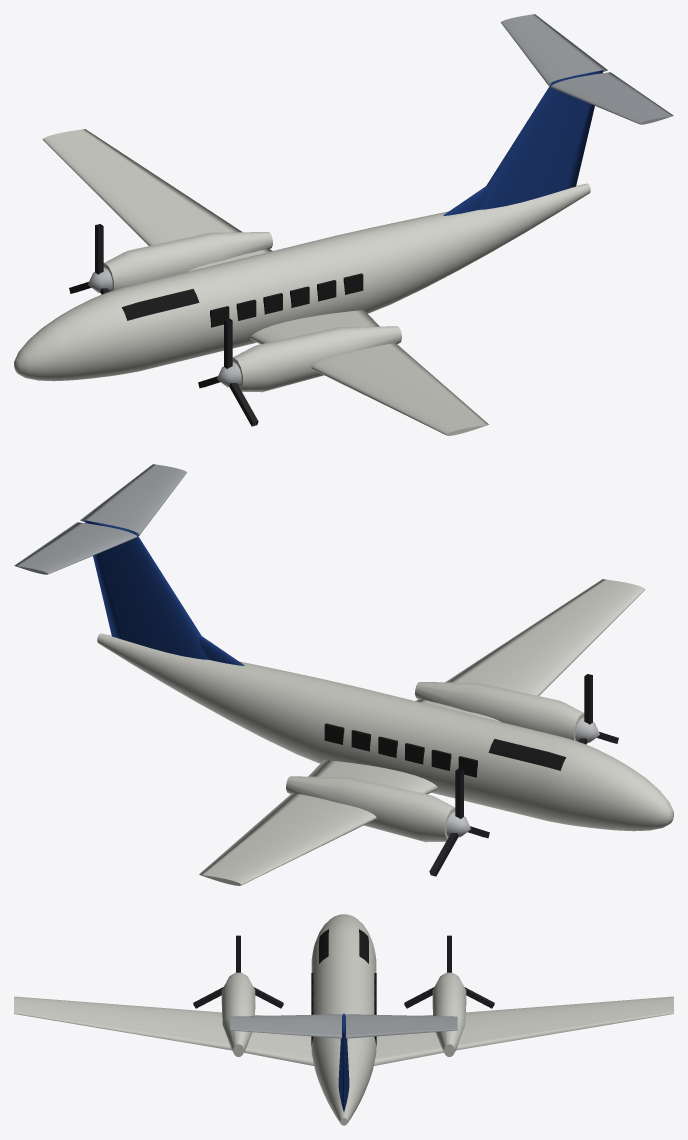
3 renders of one model, top to bottom at view 1: azimuth 30°, elevation 25°; view 2: azimuth 150°, elevation 25°; view 3: azimuth 270°, elevation 25°, orthographic. The views are drawn at different scales.
Parts seen in each view (by area): view 1: be20; view 2: be20; view 3: be20.
Part boxes in pixels (left/top/right/bottom): be20: left=14, top=14, right=673, bottom=435; be20: left=14, top=464, right=673, bottom=885; be20: left=14, top=914, right=673, bottom=1125.
Size of the model in its own units: 13.83 by 4.22 by 16.28.
